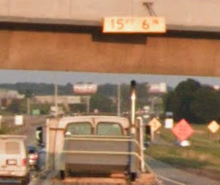1: (108, 17, 115, 30)
5: (114, 16, 126, 30)
6: (138, 17, 150, 31)
overheadsign: (101, 15, 166, 34)
